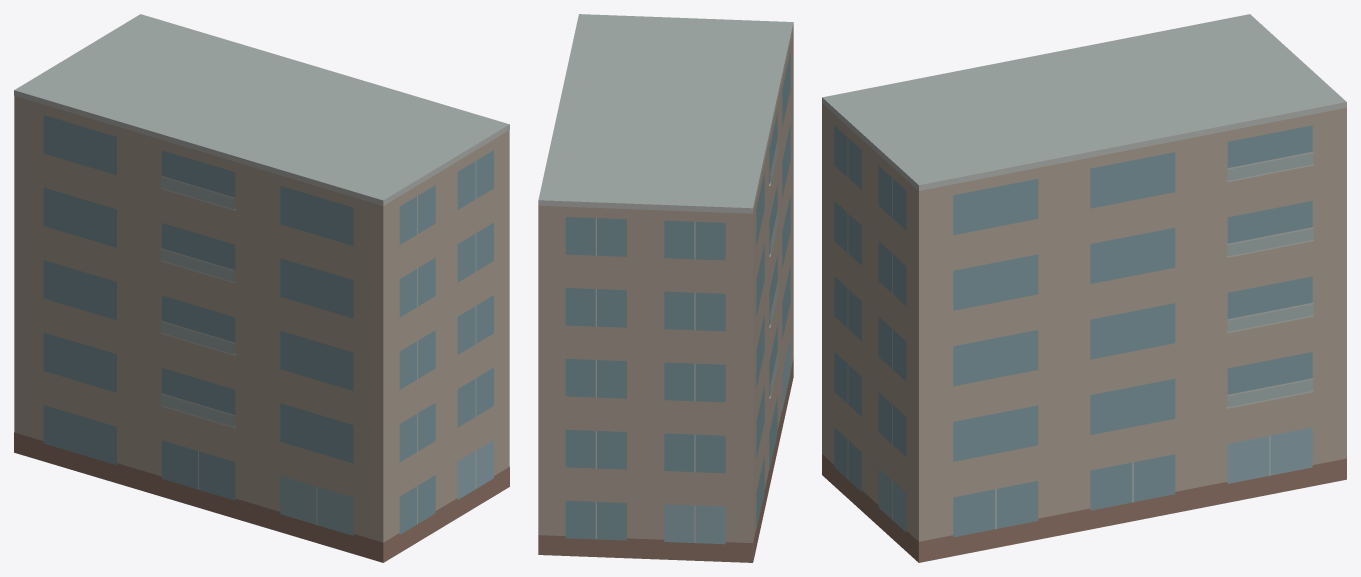
File: survey-upis-32535740.glb
3 views of the same model, side by side, from view 1: azimuth 30°, elevation 25°; view 2: azimuth 150°, elevation 25°; view 3: azimuth 270°, elevation 25° (orthographic). The views are drawn at different scales.
Parts seen in each view (by area): view 1: survey-upis-32535740.tmp; view 2: survey-upis-32535740.tmp; view 3: survey-upis-32535740.tmp.
Part boxes in pixels (x1,y1,x2,y2): survey-upis-32535740.tmp: (14,14,509,562); survey-upis-32535740.tmp: (538,14,793,562); survey-upis-32535740.tmp: (822,14,1346,562).
Bounding box in the file's own units: 15.47 × 15.9 × 20.03.
